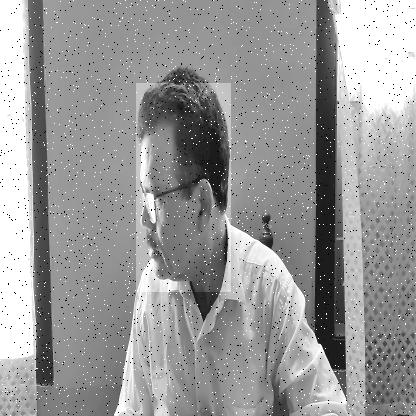Distracted: (136, 83, 231, 292)
